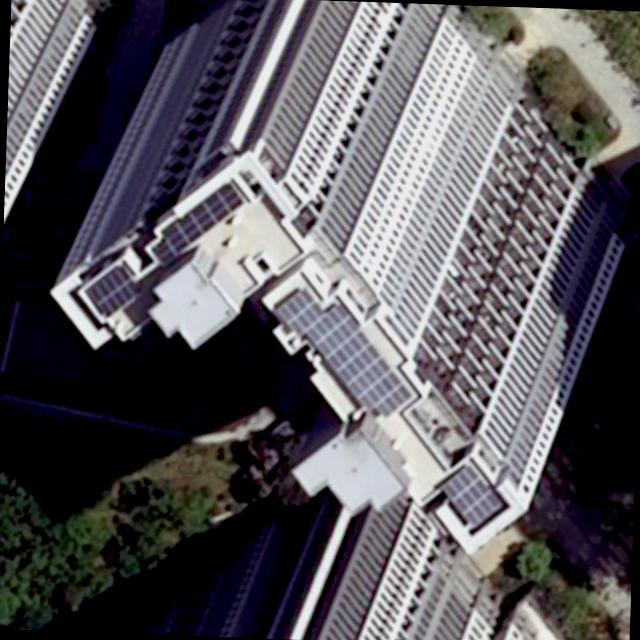solar: (268, 282, 417, 418), (151, 172, 247, 270), (436, 459, 512, 532), (82, 258, 145, 322)
